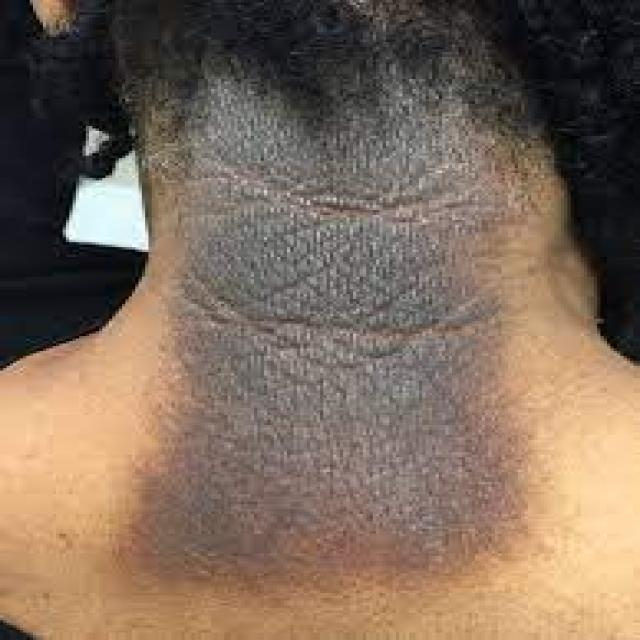Acanthosis Nigricans: (72, 80, 549, 637)
